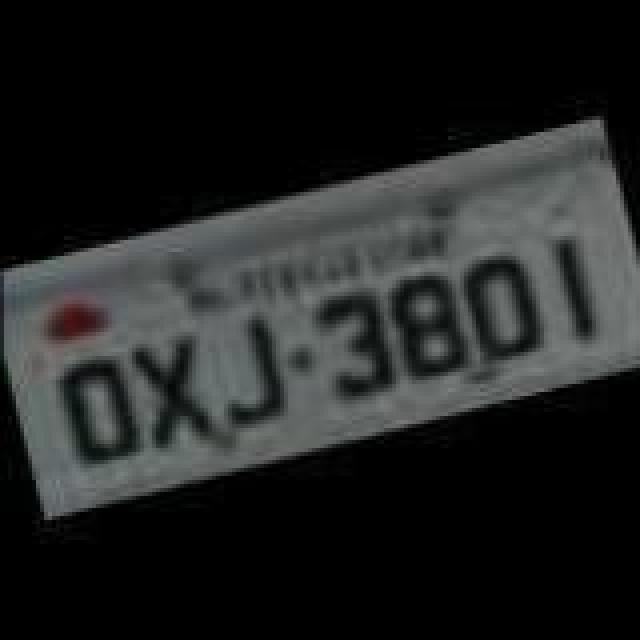1: (544, 226, 604, 342)
3: (306, 284, 402, 408)
8: (378, 264, 474, 388)
J: (196, 306, 296, 434)
O: (448, 248, 548, 372), (52, 354, 144, 478)
X: (124, 326, 224, 454)
